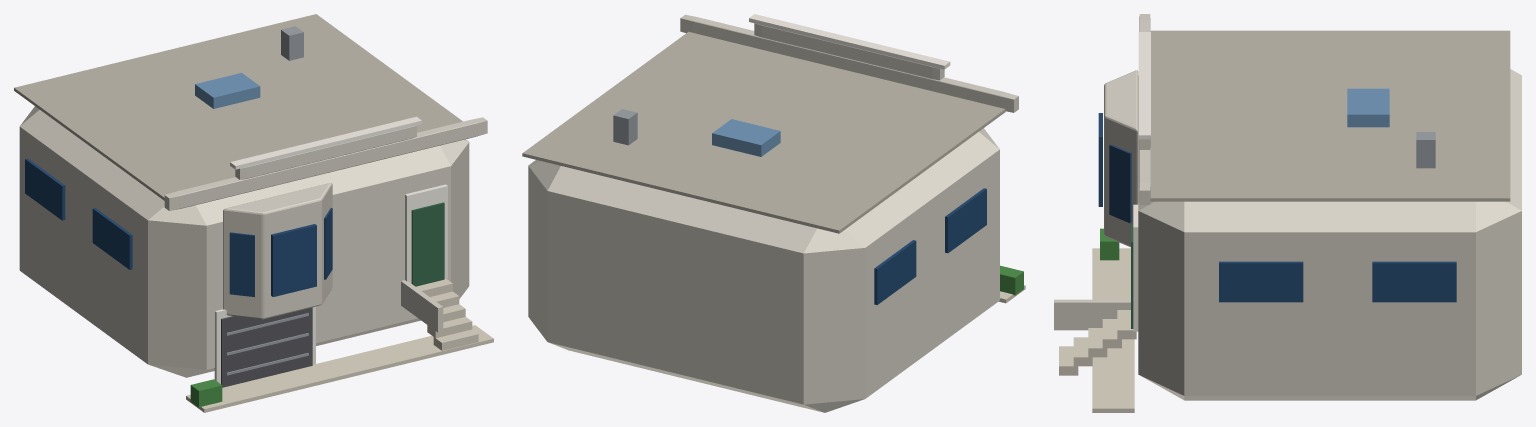
Rendered from sunset_w11_stepped_bay.glb.
3 renders of one model, left to right at view 1: azimuth 30°, elevation 25°; view 2: azimuth 150°, elevation 25°; view 3: azimuth 270°, elevation 25°, orthographic. The views are drawn at different scales.
Parts seen in each view (by area): view 1: walls, roofslab, bay, patio, pp1, gdoor, bw, door, pp2, pcap, skylt, bwa (+10 smaller); view 2: walls, roofslab, pp1, pp2, pcap, skylt, sb.002, sb, pipe, hedge; view 3: walls, roofslab, patio, bay, sb.003, sb.001, srail, skylt, bwa.001, pcap, pp1, dfr (+8 smaller).
Part boxes in pixels (box(x1,y1,x2,y2)): walls: box(19, 106, 469, 377); roofslab: box(14, 14, 462, 200); bay: box(223, 182, 332, 319); patio: box(186, 325, 493, 412); pp1: box(164, 117, 487, 210); gdoor: box(221, 307, 312, 387); bw: box(271, 224, 316, 296); door: box(411, 202, 444, 286); pp2: box(235, 125, 416, 179); pcap: box(230, 116, 421, 169); skylt: box(195, 73, 260, 108); bwa: box(229, 232, 254, 296); walls: box(528, 128, 999, 412); roofslab: box(522, 31, 1005, 233); pp1: box(680, 14, 1018, 112); pp2: box(754, 23, 944, 80); pcap: box(749, 14, 950, 69); skylt: box(712, 119, 780, 156); sb.002: box(874, 240, 916, 304); sb: box(945, 188, 986, 253); pipe: box(613, 109, 637, 145); hedge: box(1000, 265, 1023, 295); walls: box(1138, 69, 1521, 400); roofslab: box(1150, 30, 1510, 201); patio: box(1092, 248, 1134, 412); bay: box(1104, 70, 1138, 247); sb.003: box(1372, 261, 1456, 302); sb.001: box(1219, 261, 1303, 302); srail: box(1054, 299, 1130, 330); skylt: box(1347, 88, 1389, 127); bwa.001: box(1109, 144, 1131, 222); pcap: box(1138, 32, 1150, 139); pp1: box(1139, 14, 1150, 204); dfr: box(1133, 204, 1138, 331).
Bounding box in the file's own units: 11.2 × 7.17 × 12.2.
